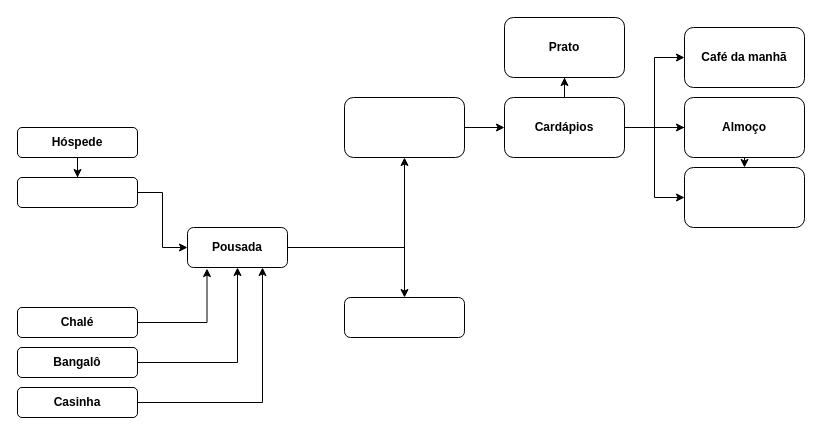
This 822x435 diagram has some shape labels left out. The centre of each missing label's shape, as x and y in pixels:
"Alimentação" goes at point 404,127.
"Atividades de lazer" goes at point 404,317.
"Janta" goes at point 744,197.
"Reserva" goes at point 77,192.
